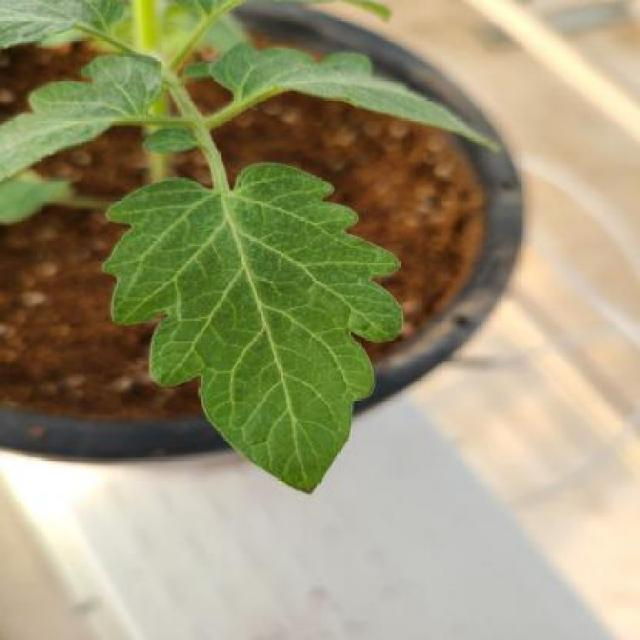Healthy: (103, 163, 403, 496)
